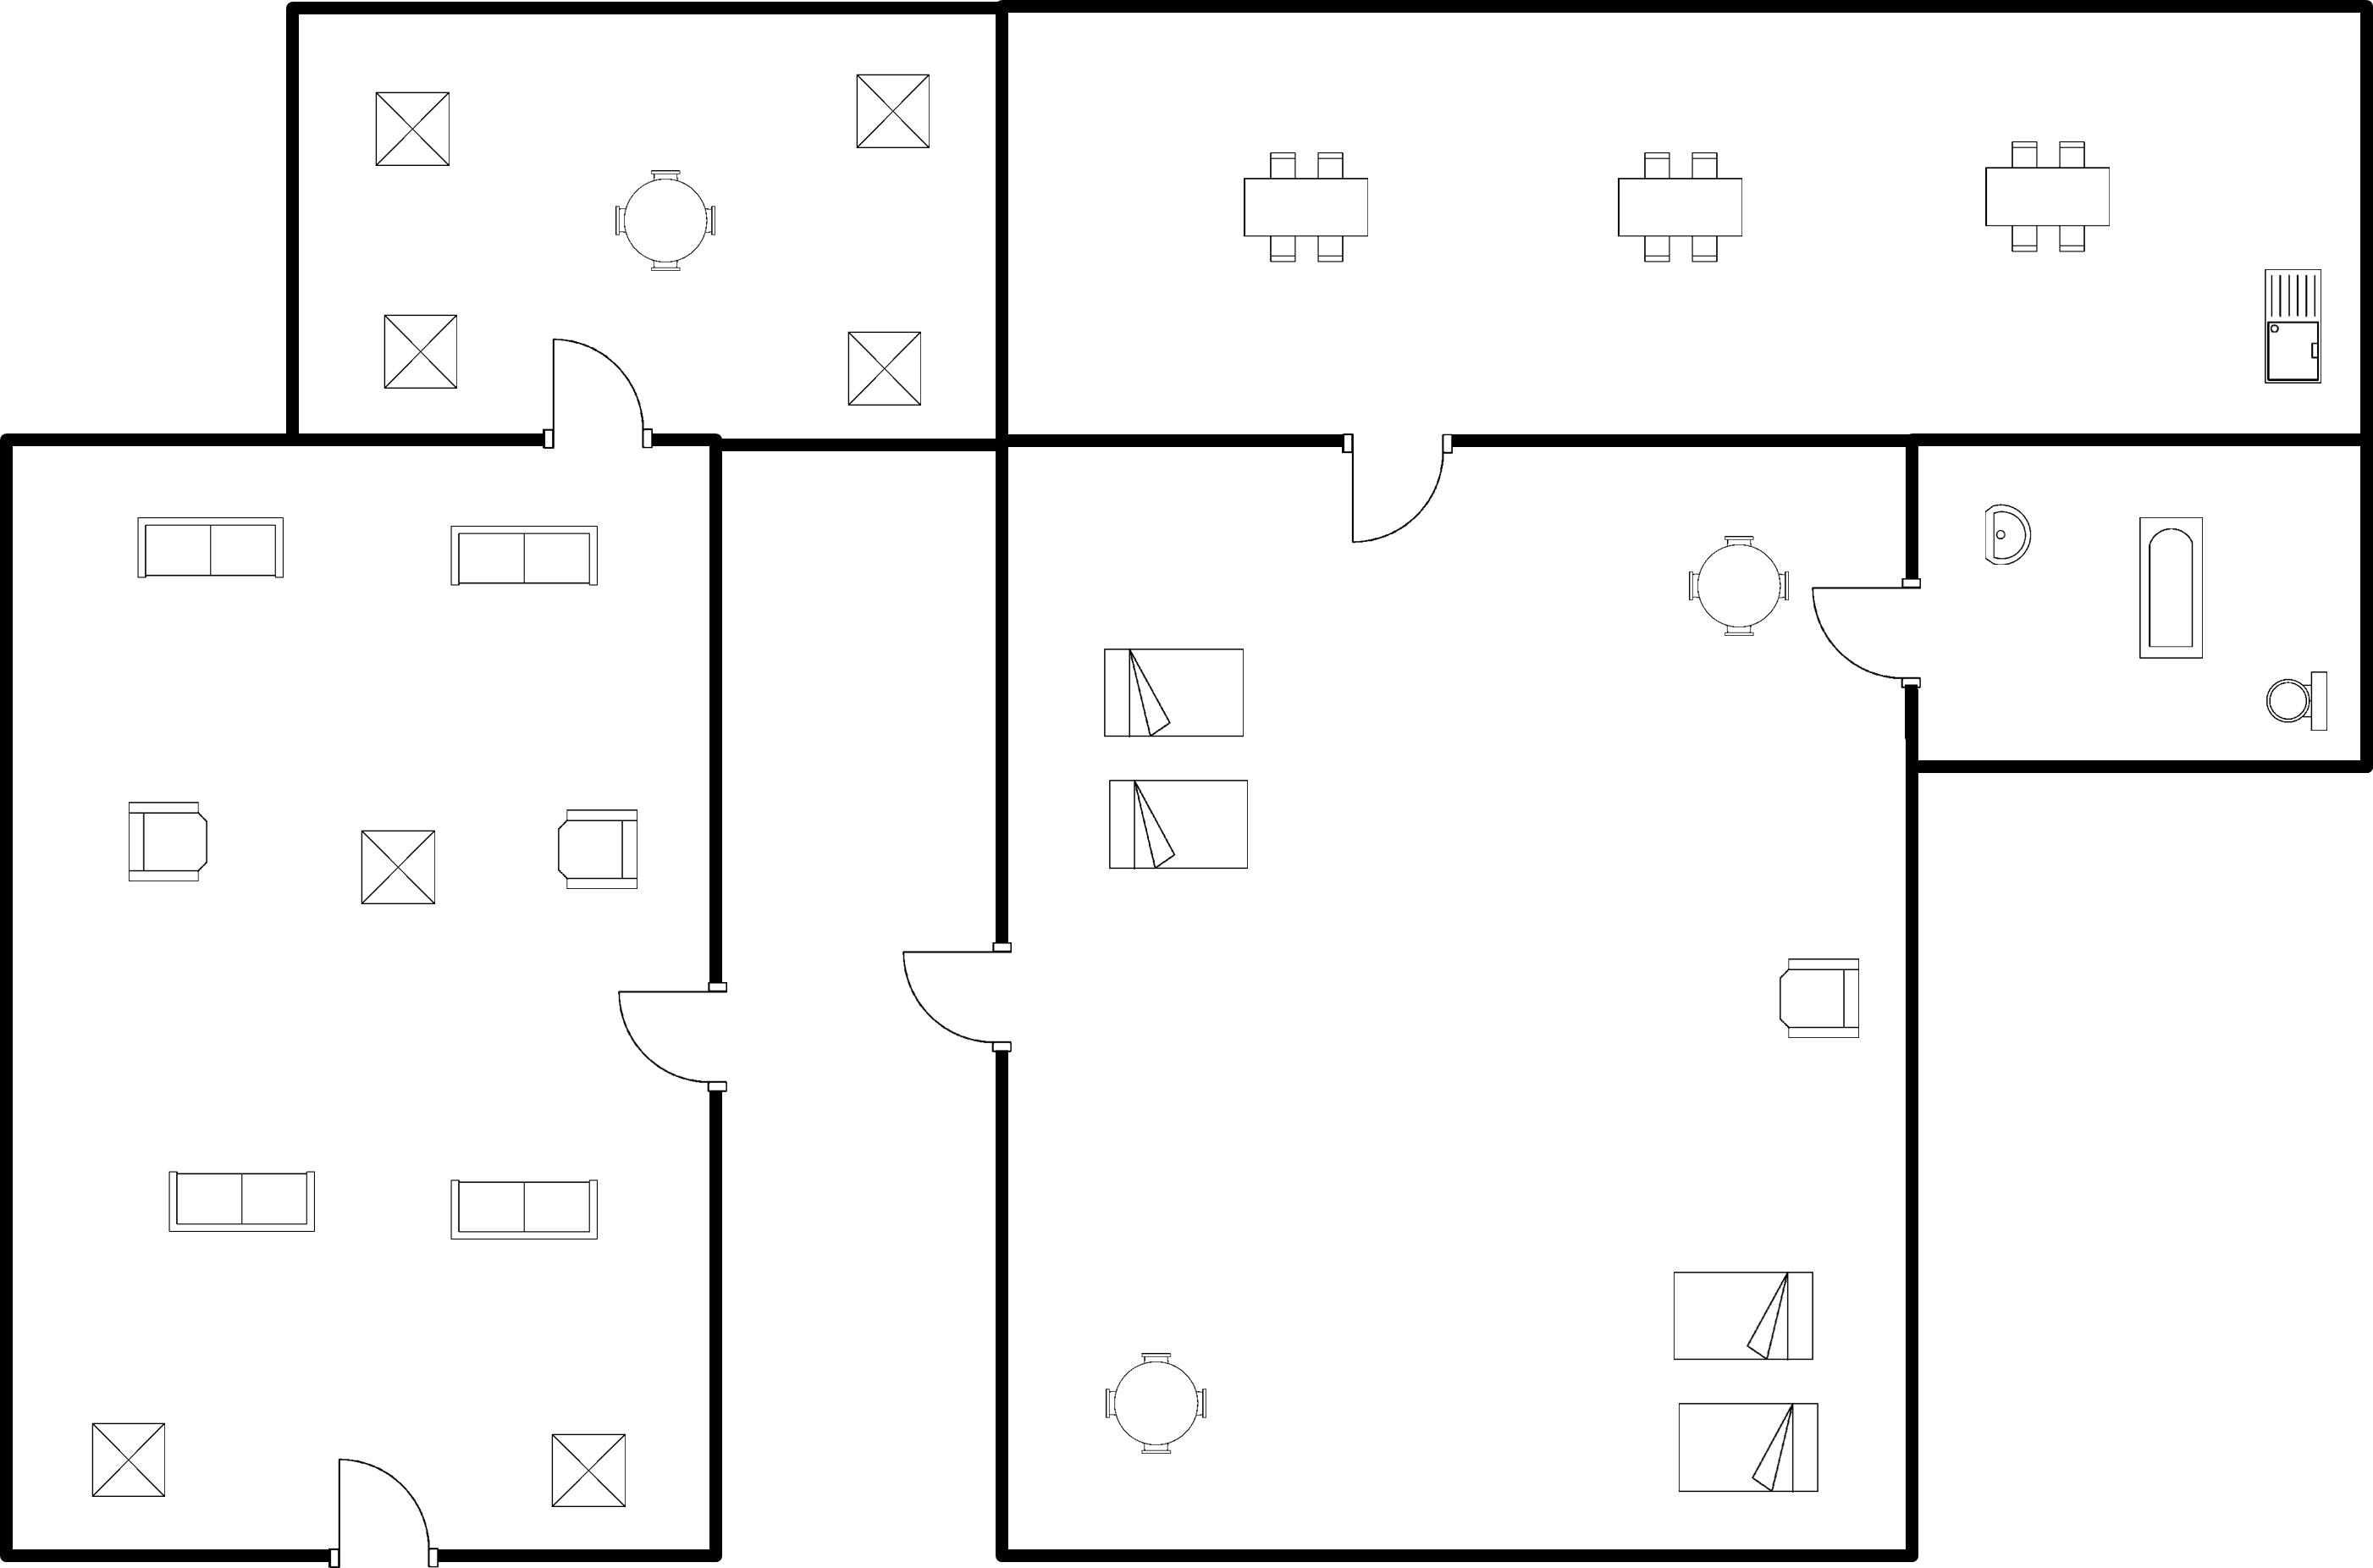armchair: (538, 796, 657, 904), (110, 786, 224, 894), (1763, 947, 1873, 1046)
bed: (1661, 1389, 1830, 1510), (1087, 638, 1261, 750), (1659, 1260, 1827, 1372), (1099, 770, 1263, 881)
coffee_table: (357, 76, 464, 178), (367, 300, 471, 403), (78, 1411, 179, 1512), (350, 818, 454, 918), (537, 1421, 638, 1521), (848, 61, 943, 166), (835, 322, 933, 411)
dining_table: (1602, 139, 1756, 281), (1224, 139, 1383, 278), (1974, 130, 2125, 273)
large_sink: (2254, 649, 2343, 747)
large_sofa: (119, 505, 300, 598), (435, 510, 616, 599), (156, 1162, 337, 1248), (439, 1165, 613, 1255)
round_table: (596, 159, 731, 286), (1089, 1343, 1222, 1468), (1676, 523, 1802, 652)
sink: (2250, 259, 2337, 398)
small_sink: (1967, 493, 2047, 577)
tub: (2125, 503, 2216, 671)
